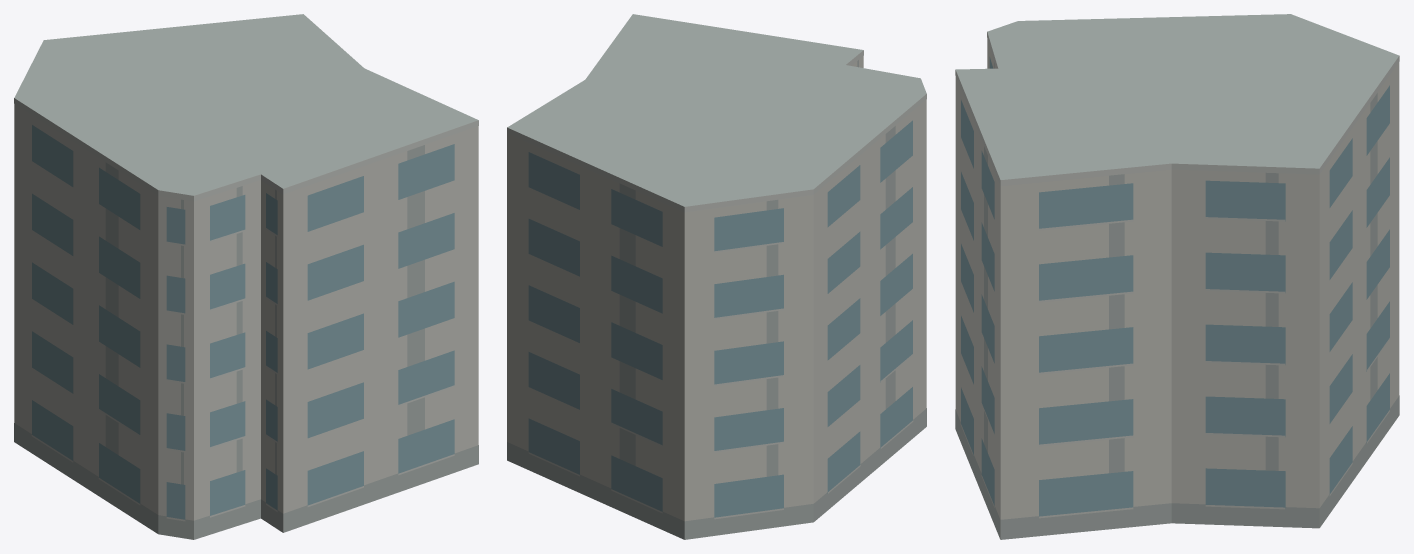
File: survey-upis-32500720.glb
3 renders of one model, left to right at view 1: azimuth 30°, elevation 25°; view 2: azimuth 150°, elevation 25°; view 3: azimuth 270°, elevation 25°, orthographic. The views are drawn at different scales.
Visible parts, largest first — view 1: survey-upis-32500720.tmp; view 2: survey-upis-32500720.tmp; view 3: survey-upis-32500720.tmp.
Boxes of the visible parts, bbox=[...] form: survey-upis-32500720.tmp: bbox=[14, 14, 478, 539]; survey-upis-32500720.tmp: bbox=[507, 14, 926, 539]; survey-upis-32500720.tmp: bbox=[955, 14, 1399, 539].
Size of the model in its own units: 14.45 by 14.58 by 16.32.
